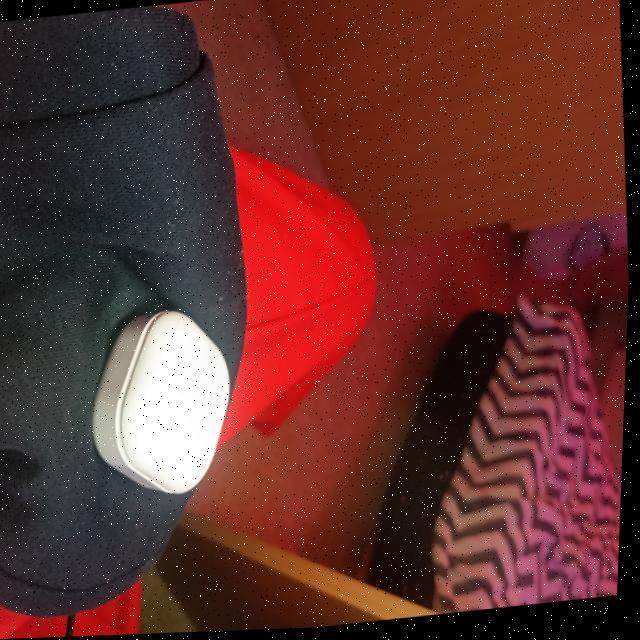headphones: (95, 312, 231, 495)
